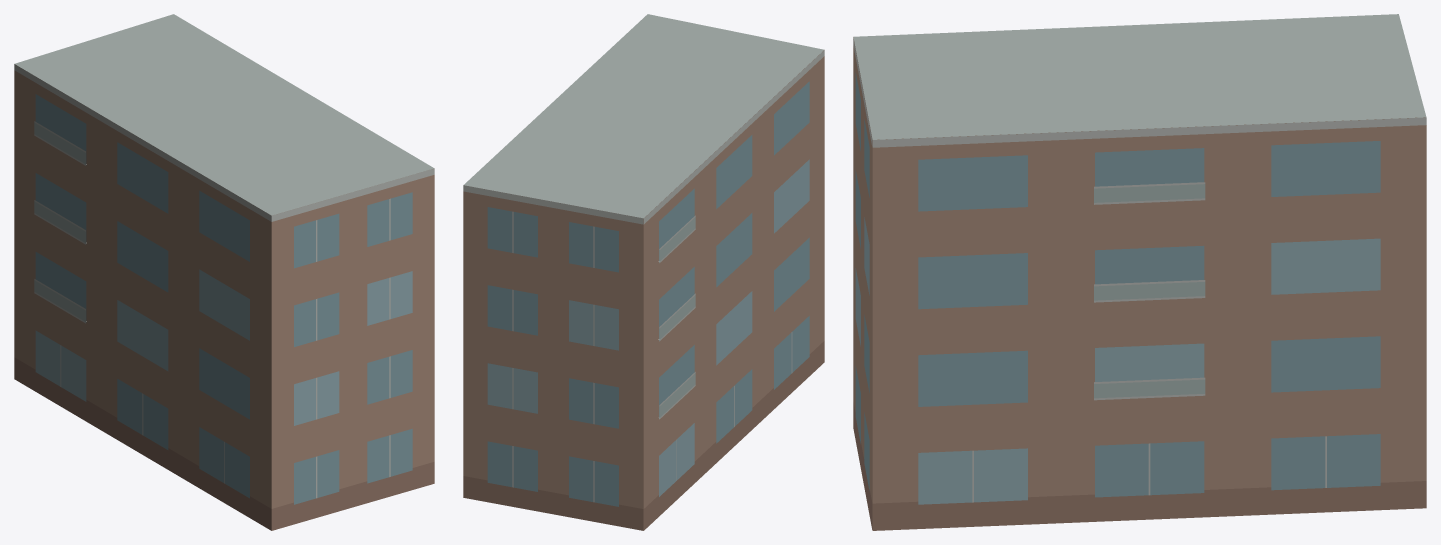
Rendered from survey-upis-32942396.glb.
The picture shows the model from 3 angles, left to right: view 1: azimuth 30°, elevation 25°; view 2: azimuth 150°, elevation 25°; view 3: azimuth 270°, elevation 25°; orthographic projection. The views are drawn at different scales.
Parts seen in each view (by area): view 1: survey-upis-32942396.tmp; view 2: survey-upis-32942396.tmp; view 3: survey-upis-32942396.tmp.
Part boxes in pixels (x1,y1,x2,y2): survey-upis-32942396.tmp: (14, 14, 434, 530); survey-upis-32942396.tmp: (463, 14, 824, 530); survey-upis-32942396.tmp: (853, 14, 1426, 530).
Bounding box in the file's own units: 8.44 × 12.2 × 16.22.
